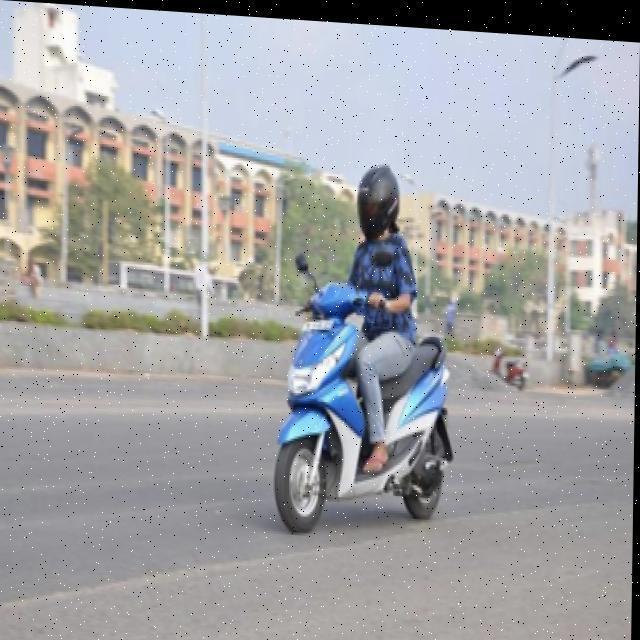Helmet: (351, 146, 407, 238)
